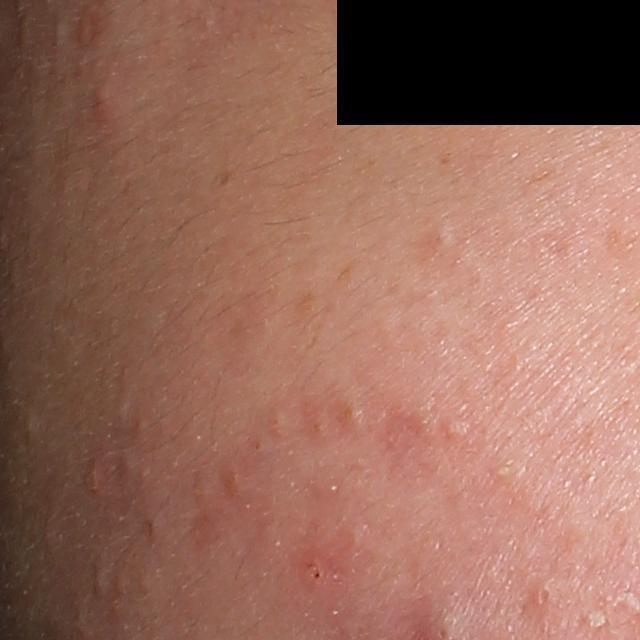comedo: (437, 416, 468, 445), (265, 408, 291, 441), (529, 581, 558, 610), (490, 458, 522, 481), (584, 605, 608, 630), (341, 400, 364, 426)
papule: (287, 544, 340, 592), (88, 80, 117, 120), (83, 453, 106, 495)
